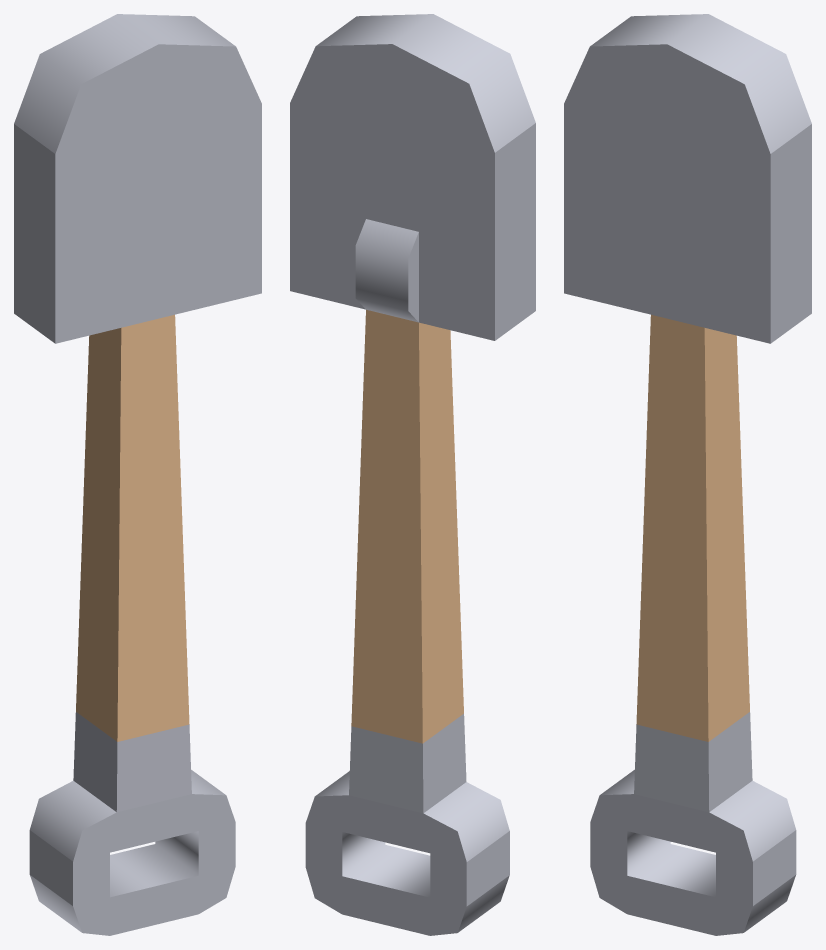
The picture shows the model from 3 angles, left to right: view 1: azimuth 30°, elevation 25°; view 2: azimuth 150°, elevation 25°; view 3: azimuth 330°, elevation 25°; orthographic projection.
Visible parts, largest first — view 1: toolShovel; view 2: toolShovel; view 3: toolShovel.
Part boxes in pixels (left/top/right/bottom): toolShovel: left=14, top=14, right=261, bottom=935; toolShovel: left=290, top=14, right=535, bottom=935; toolShovel: left=564, top=14, right=811, bottom=935.
Size of the model in its own units: 0.0709 by 0.29 by 0.0309.
